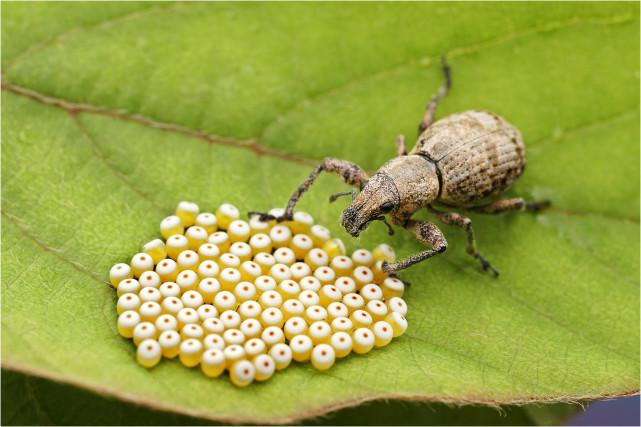Curculionidae: (245, 51, 551, 288)
